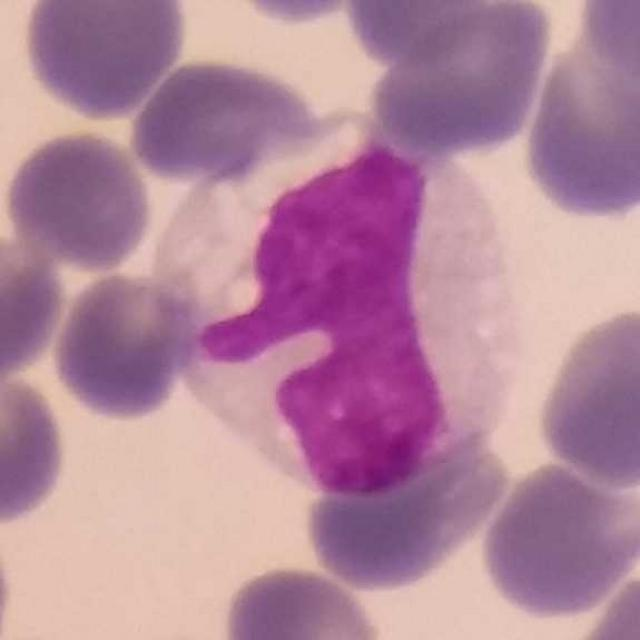Monocyte: (153, 112, 526, 492)
RBC: (297, 422, 514, 596), (362, 0, 558, 158), (475, 456, 640, 621), (126, 52, 324, 188), (517, 12, 640, 224), (47, 267, 201, 424), (2, 126, 156, 274), (15, 0, 192, 122), (531, 300, 640, 492), (218, 561, 387, 640), (0, 355, 72, 531), (341, 0, 505, 75), (0, 220, 70, 383), (575, 0, 640, 90), (569, 564, 640, 640), (215, 0, 387, 29)
